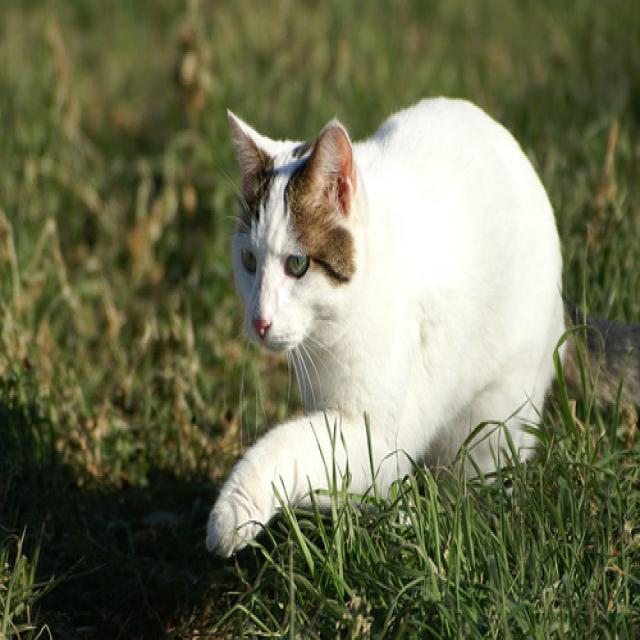left eye: (283, 248, 310, 280)
